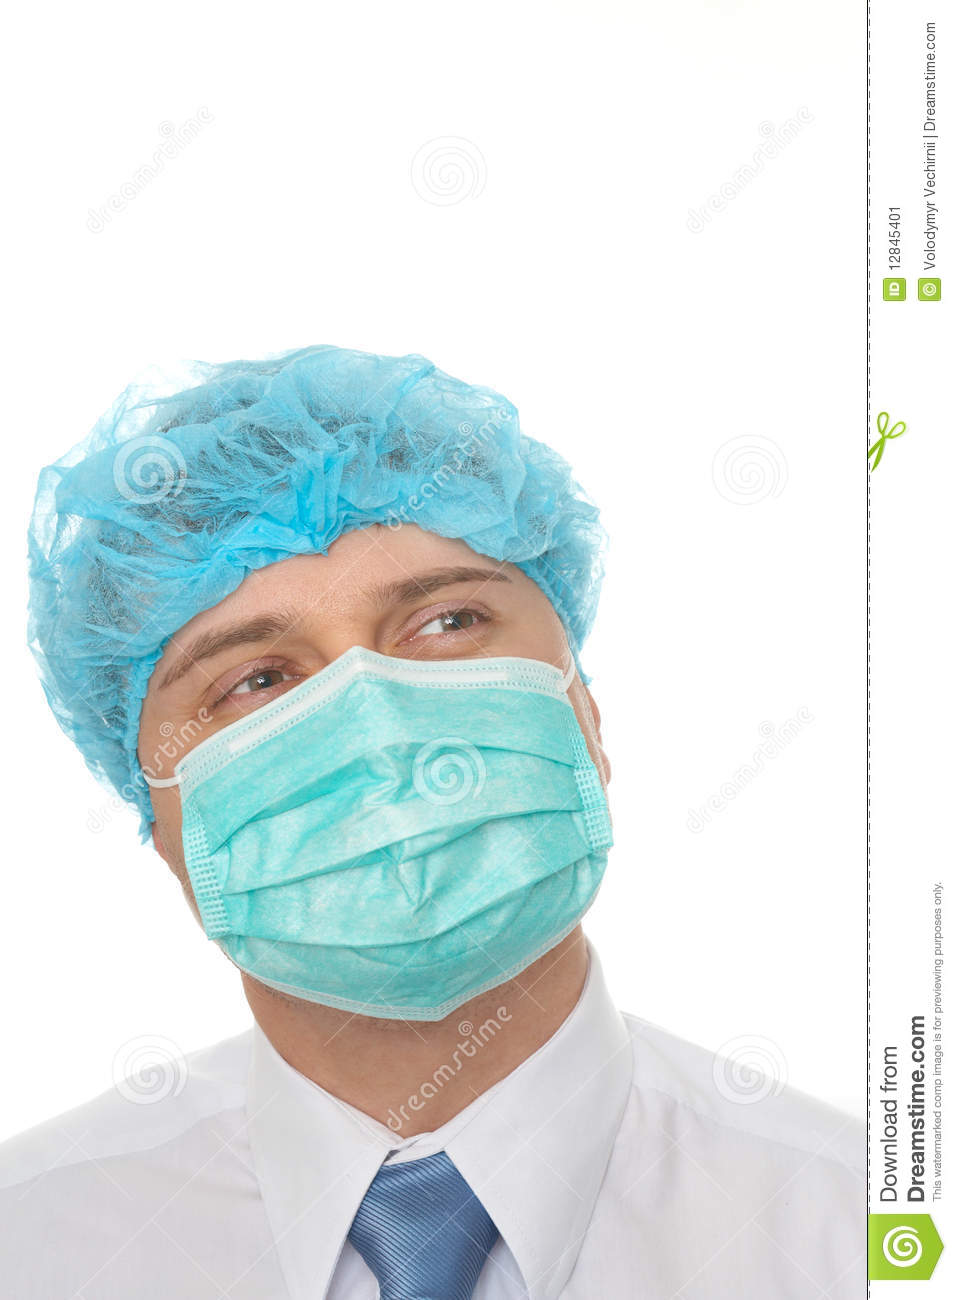mask: (172, 647, 612, 1020)
